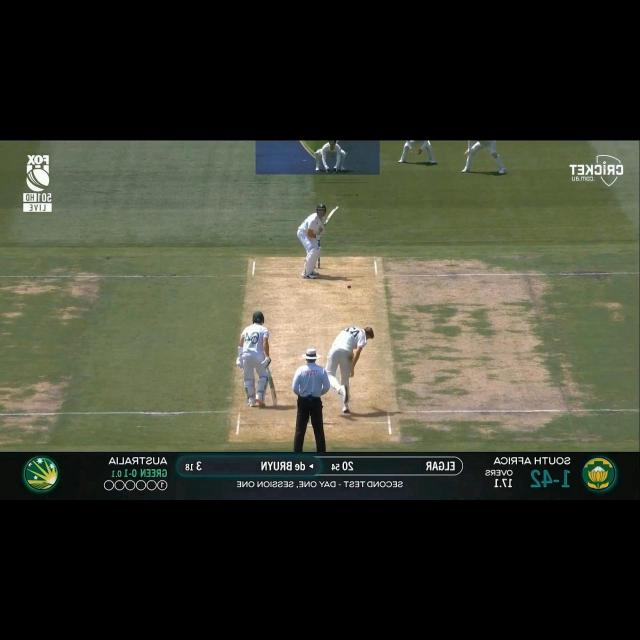bat: (323, 205, 339, 226), (268, 374, 278, 407)
toe: (271, 400, 278, 408), (334, 205, 338, 211)
